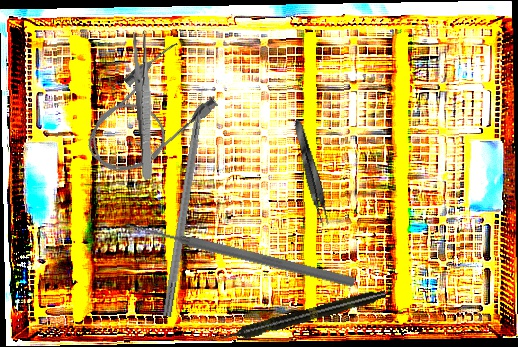Cannula: (67, 36, 227, 191)
Dressing Forceps: (131, 31, 157, 180)
Handpiece: (217, 286, 388, 346)
Hook Surgical: (162, 85, 211, 318)
Pusher: (123, 217, 357, 290)
Tissue Forceps: (289, 116, 334, 229)
